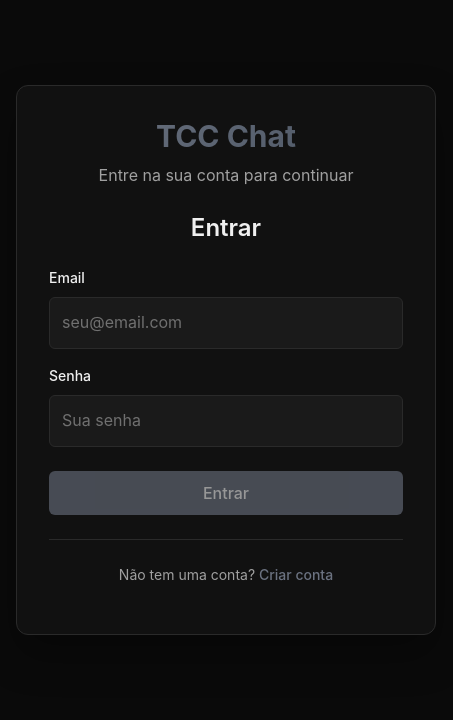
Test case: Authentication Flow › Login Page › should navigate to register page
What coordinates should you click on to do the following:
click the link to "/register"
I would click on:
 (296, 575)
Its box is [259, 566, 333, 583].
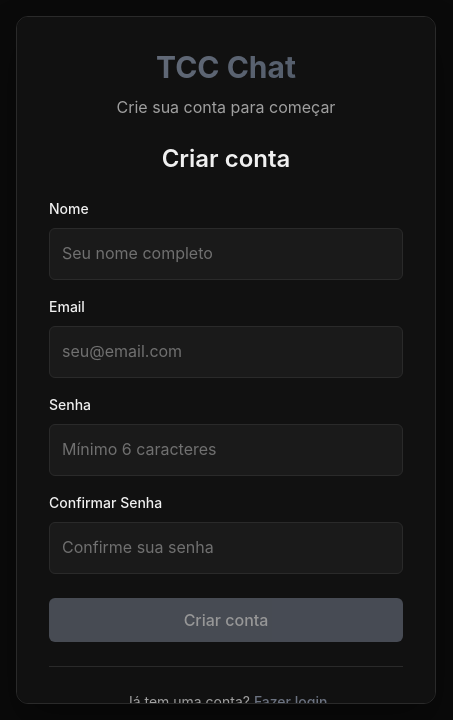
Check: the heading "Criar conta" is shown, box [162, 144, 290, 173]
